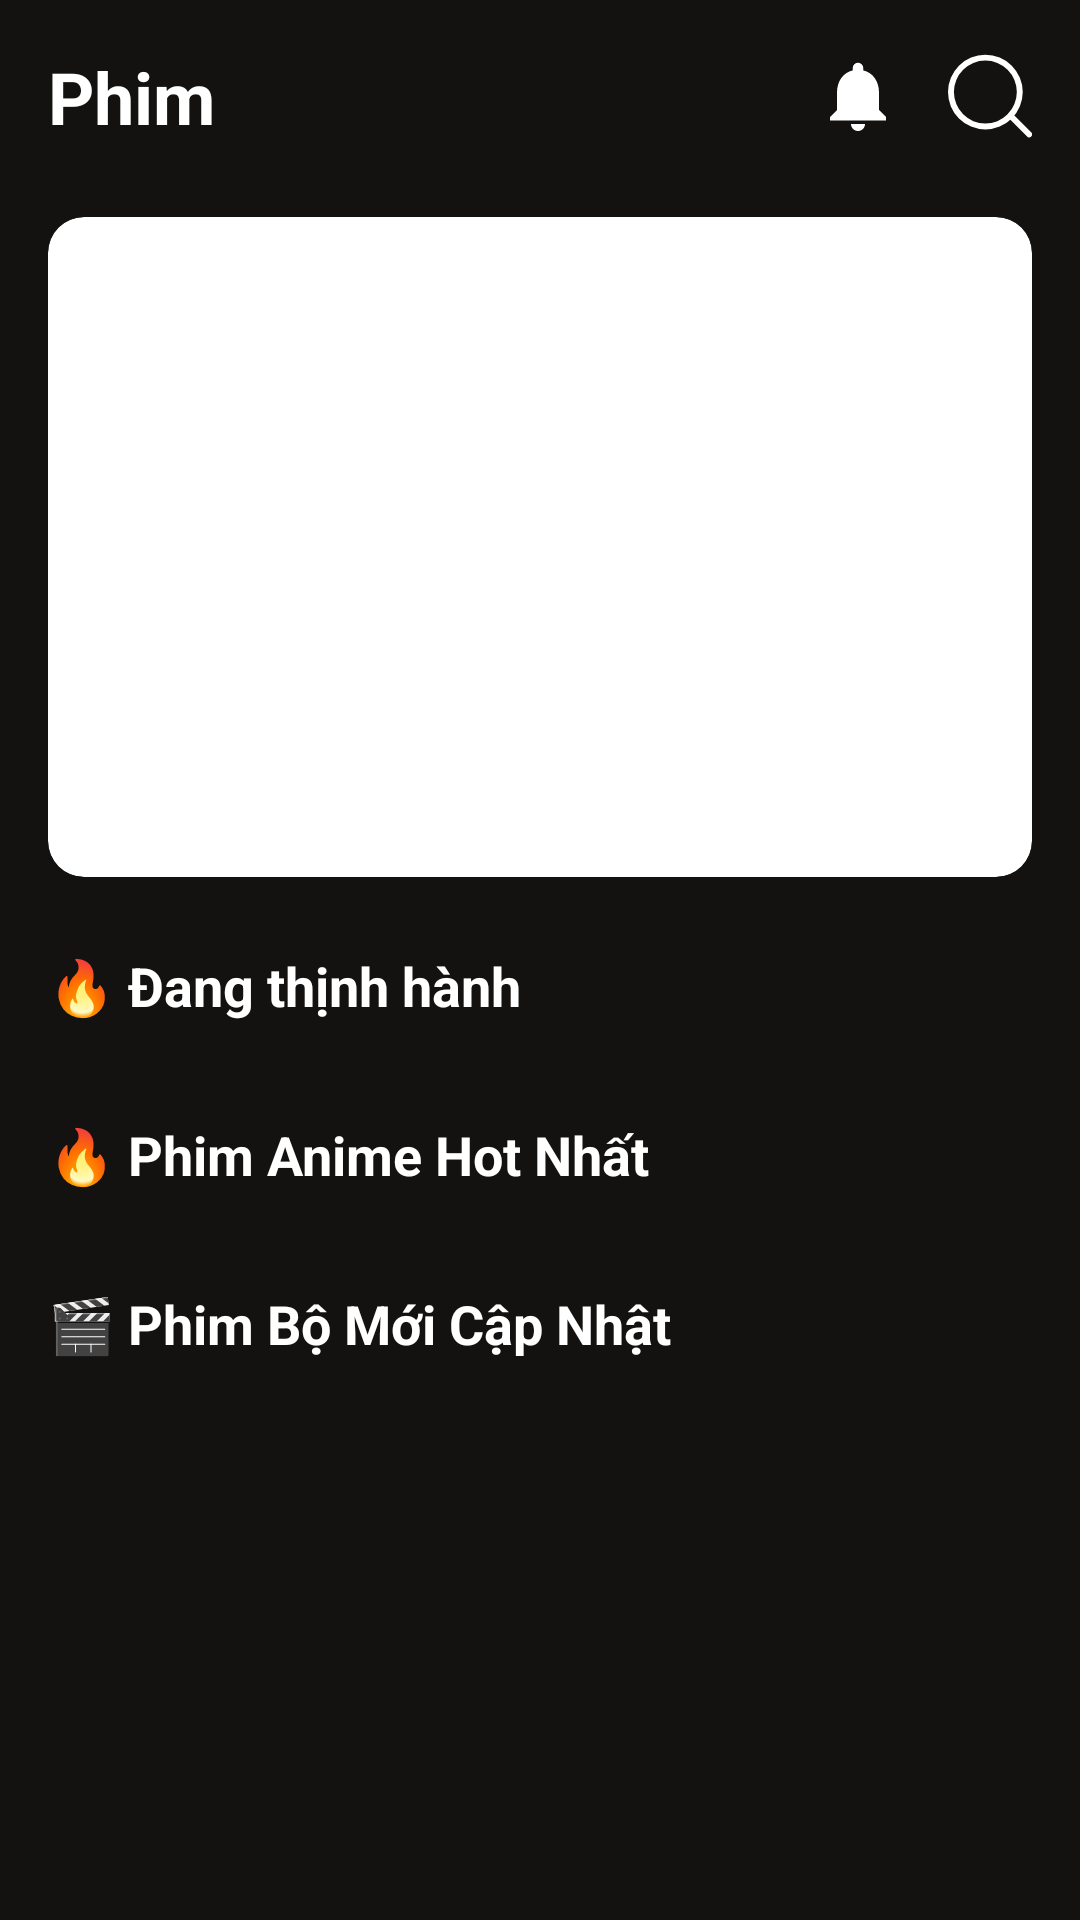

Where to tap for icons on this 1080*1920 app screen, as (x=x, y=y):
notification: (x=858, y=96)
search: (x=990, y=96)
